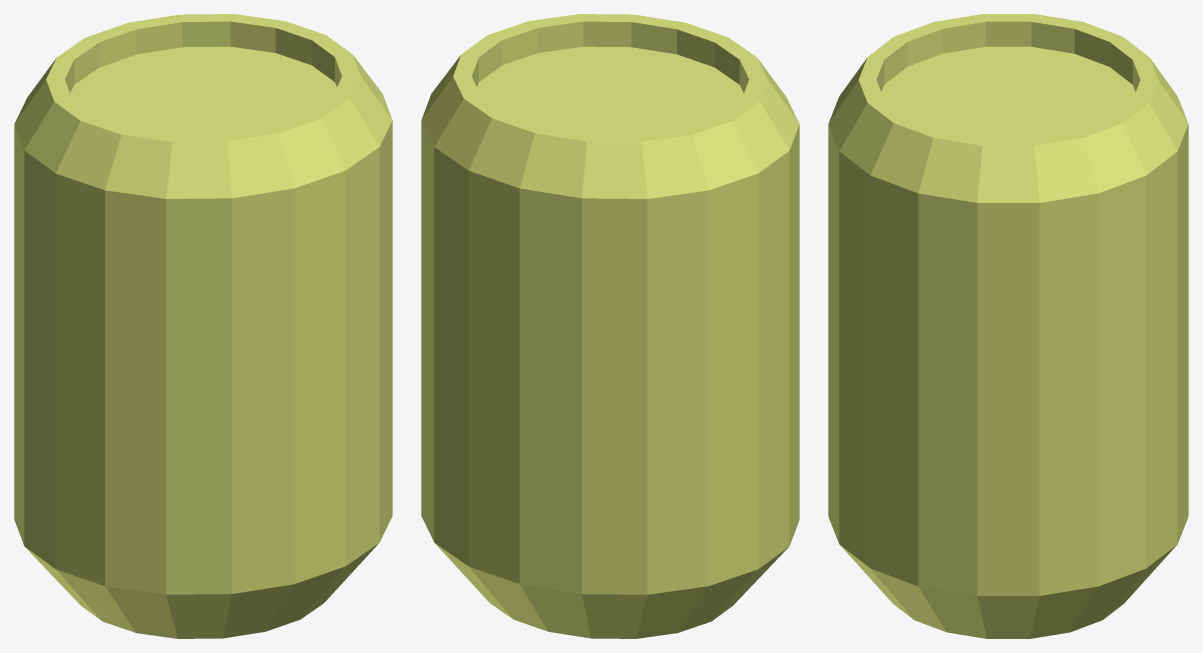
File: soda_can.glb
3 views of the same model, side by side, from view 1: azimuth 30°, elevation 25°; view 2: azimuth 150°, elevation 25°; view 3: azimuth 270°, elevation 25° (orthographic).
Visible parts, largest first — view 1: SODA; view 2: SODA; view 3: SODA.
Boxes of the visible parts, x1,y1,x2,y2 form: SODA: [14, 14, 392, 638]; SODA: [421, 14, 799, 638]; SODA: [828, 14, 1188, 638].
Size of the model in its own units: 0.0909 by 0.1351 by 0.0873.
